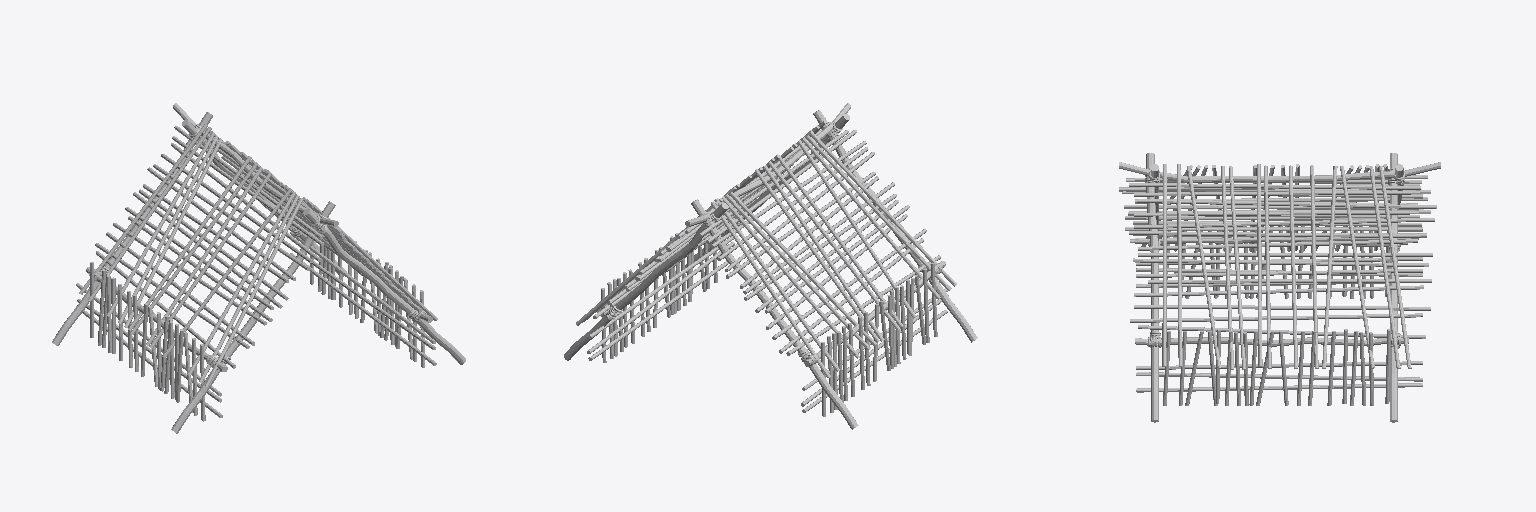
The model's file is lowpoly_viking_tent_009.obj.
The picture shows the model from 3 angles: view 1: azimuth 30°, elevation 25°; view 2: azimuth 150°, elevation 25°; view 3: azimuth 270°, elevation 25°; orthographic projection.
Visible parts, largest first — view 1: Cylinder.067, Cylinder.068, Cylinder.070, Cylinder.312, Cylinder.069, Cylinder.310, Cylinder.309, Cylinder.311, Cylinder.302, Cylinder.300, Cylinder.307, Cylinder.304 (+21 smaller); view 2: Cylinder.070, Cylinder.071, Cylinder.068, Cylinder.069, Cylinder.310, Cylinder.307, Cylinder.312, Cylinder.306, Cylinder.311, Cylinder.308, Cylinder.305, Cylinder.302 (+21 smaller); view 3: Cylinder.069, Cylinder.067, Cylinder.071, Cylinder.376, Cylinder.378, Cylinder.383, Cylinder.388, Cylinder.379, Cylinder.375, Cylinder.384, Cylinder.387, Cylinder.374 (+28 smaller).
Boxes of the visible parts, box(x1,y1,x2,y2) form: Cylinder.067: box(303, 208, 465, 364); Cylinder.068: box(171, 201, 335, 433); Cylinder.070: box(52, 112, 212, 345); Cylinder.312: box(205, 198, 302, 387); Cylinder.069: box(173, 103, 338, 226); Cylinder.310: box(187, 191, 295, 375); Cylinder.309: box(107, 132, 214, 316); Cylinder.311: box(199, 194, 299, 383); Cylinder.302: box(128, 156, 251, 330); Cylinder.300: box(79, 124, 207, 294); Cylinder.307: box(124, 139, 222, 327); Cylinder.304: box(149, 173, 271, 348); Cylinder.070: box(691, 199, 858, 429); Cylinder.071: box(564, 203, 728, 360); Cylinder.068: box(813, 110, 977, 342); Cylinder.069: box(685, 103, 850, 226); Cylinder.310: box(801, 137, 940, 299); Cylinder.307: box(729, 191, 876, 345); Cylinder.312: box(810, 132, 956, 286); Cylinder.306: box(763, 165, 884, 341); Cylinder.311: box(806, 135, 951, 290); Cylinder.308: box(725, 194, 870, 349); Cylinder.305: box(768, 161, 899, 329); Cylinder.302: box(755, 169, 879, 342); Cylinder.069: box(1119, 162, 1440, 182); Cylinder.067: box(1146, 153, 1158, 422); Cylinder.071: box(1390, 153, 1397, 422); Cylinder.376: box(1137, 199, 1436, 208); Cylinder.378: box(1134, 218, 1434, 228); Cylinder.383: box(1133, 258, 1428, 266); Cylinder.388: box(1134, 305, 1430, 310); Cylinder.379: box(1134, 210, 1430, 216); Cylinder.375: box(1134, 190, 1430, 196); Cylinder.384: box(1138, 253, 1432, 256); Cylinder.387: box(1130, 313, 1422, 322); Cylinder.374: box(1129, 183, 1420, 189).
Bounding box in the file's own units: 7.45 × 4.72 × 7.06.